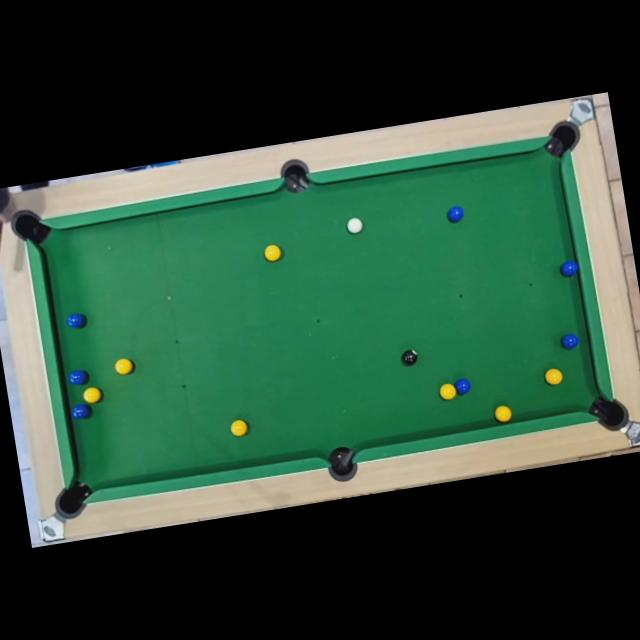Ball: (68, 369, 90, 388), (559, 332, 580, 351), (114, 358, 134, 377), (81, 386, 102, 404), (438, 383, 458, 401), (544, 368, 564, 386), (494, 404, 514, 422), (230, 419, 248, 437), (453, 378, 471, 396), (264, 244, 282, 262), (401, 349, 419, 366), (560, 261, 578, 278), (446, 206, 464, 223), (346, 217, 364, 234), (72, 404, 91, 420), (68, 312, 84, 328)
